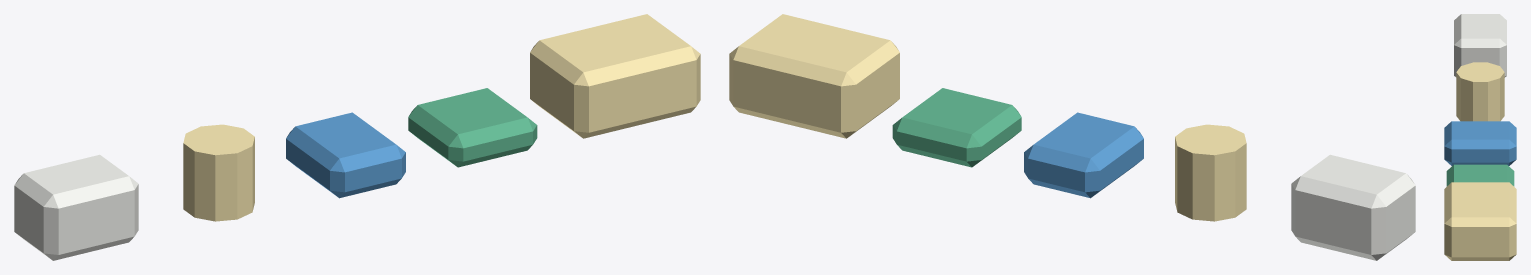
File: SupplyBundles.fbx
3 views of the same model, side by side, from view 1: azimuth 30°, elevation 25°; view 2: azimuth 150°, elevation 25°; view 3: azimuth 270°, elevation 25° (orthographic). The views are drawn at different scales.
Visible parts, largest first — view 1: Supply_Blanket, Supply_Gauze, Supply_Gloves, Supply_Dressing, Supply_Bandage; view 2: Supply_Blanket, Supply_Gauze, Supply_Gloves, Supply_Dressing, Supply_Bandage; view 3: Supply_Blanket, Supply_Gloves, Supply_Bandage, Supply_Gauze, Supply_Dressing.
Boxes of the visible parts, x1=… form: Supply_Blanket: x1=530, y1=14, x2=700, y2=138; Supply_Gauze: x1=14, y1=154, x2=138, y2=260; Supply_Gloves: x1=286, y1=112, x2=405, y2=198; Supply_Dressing: x1=408, y1=88, x2=537, y2=167; Supply_Bandage: x1=183, y1=124, x2=254, y2=221; Supply_Blanket: x1=729, y1=14, x2=899, y2=138; Supply_Gauze: x1=1291, y1=154, x2=1415, y2=260; Supply_Gloves: x1=1024, y1=112, x2=1143, y2=198; Supply_Dressing: x1=892, y1=88, x2=1021, y2=167; Supply_Bandage: x1=1175, y1=124, x2=1246, y2=221; Supply_Blanket: x1=1444, y1=182, x2=1516, y2=260; Supply_Gloves: x1=1444, y1=121, x2=1516, y2=165; Supply_Bandage: x1=1456, y1=62, x2=1504, y2=121; Supply_Gauze: x1=1454, y1=14, x2=1506, y2=77; Supply_Dressing: x1=1446, y1=164, x2=1514, y2=186.
Size of the model in its own units: 2.05 by 0.2 by 0.3.
